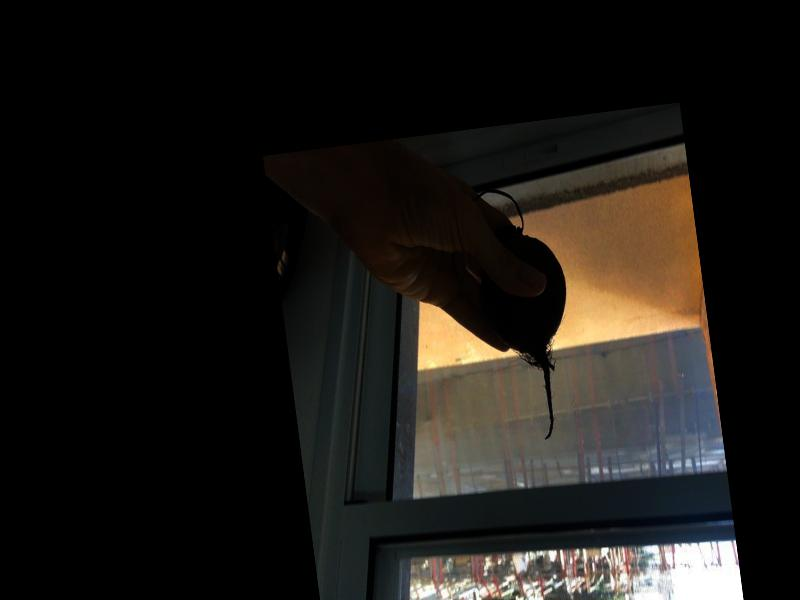Beet: (443, 181, 585, 449)
